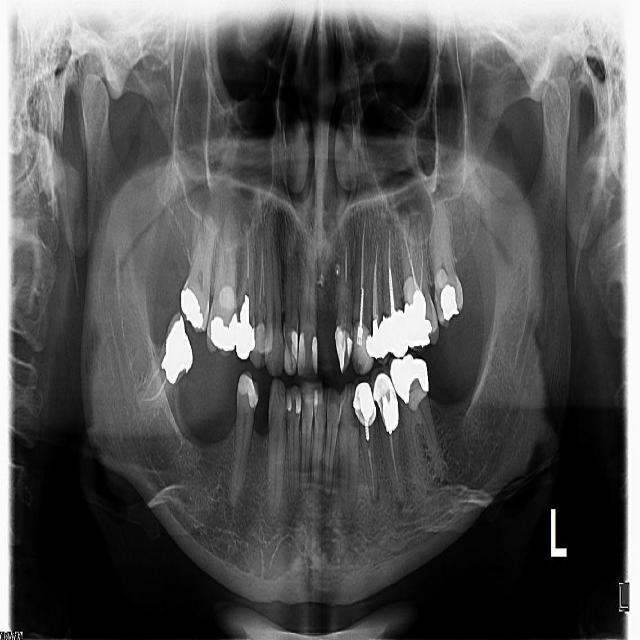71: (356, 287, 368, 347), (388, 268, 395, 317), (343, 281, 349, 331), (364, 418, 370, 442)
74: (400, 216, 419, 291), (141, 366, 172, 404), (388, 432, 402, 501), (372, 245, 381, 322), (258, 239, 267, 305), (368, 447, 376, 494), (245, 222, 251, 277), (361, 218, 365, 289), (420, 233, 424, 291), (387, 231, 391, 270), (344, 242, 347, 280)
NucleOSS Implant: (159, 315, 200, 388), (386, 350, 435, 405), (401, 288, 434, 350), (175, 285, 207, 332), (234, 293, 256, 360), (383, 310, 412, 359), (365, 318, 392, 359), (210, 313, 238, 350), (437, 282, 460, 322), (357, 385, 376, 424)
Sterngold Implant: (345, 394, 361, 429)
Straumann Implant: (347, 321, 375, 377), (233, 370, 265, 410), (248, 322, 274, 369), (332, 325, 358, 372), (283, 321, 298, 375), (427, 269, 450, 297), (402, 278, 419, 306), (286, 387, 303, 413), (297, 334, 307, 376), (311, 336, 318, 375), (313, 390, 318, 421)
Zimmer Implant: (365, 364, 405, 434), (349, 374, 379, 427)
